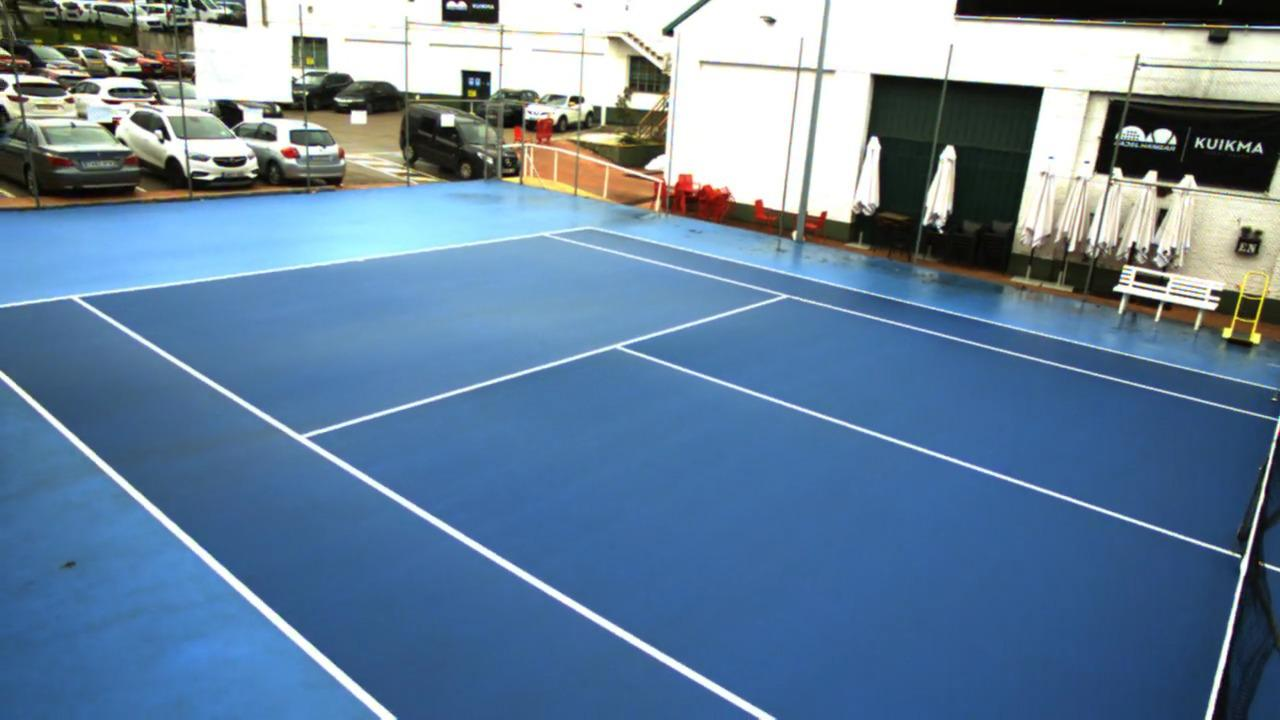cancha_tenis: (69, 232, 1272, 720)
point_f1: (59, 283, 97, 310)
point_f2: (530, 223, 556, 247)
point_fc1: (353, 252, 372, 272)
point_i1: (285, 427, 321, 453)
point_i2: (767, 286, 799, 311)
point_ic1: (608, 332, 643, 363)
